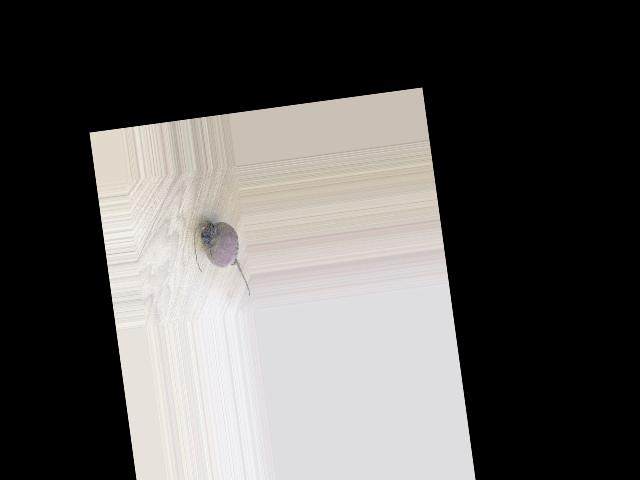beet: (191, 217, 250, 302)
